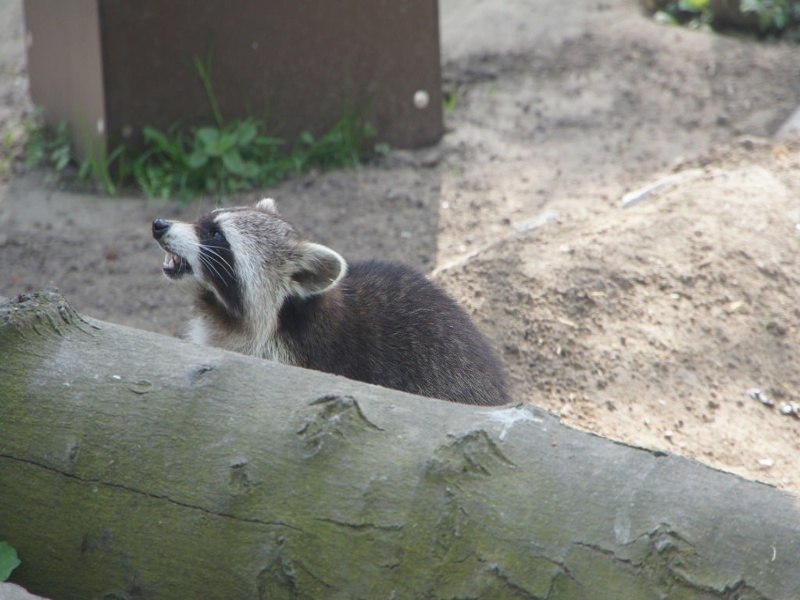raccoon: (146, 194, 518, 416)
